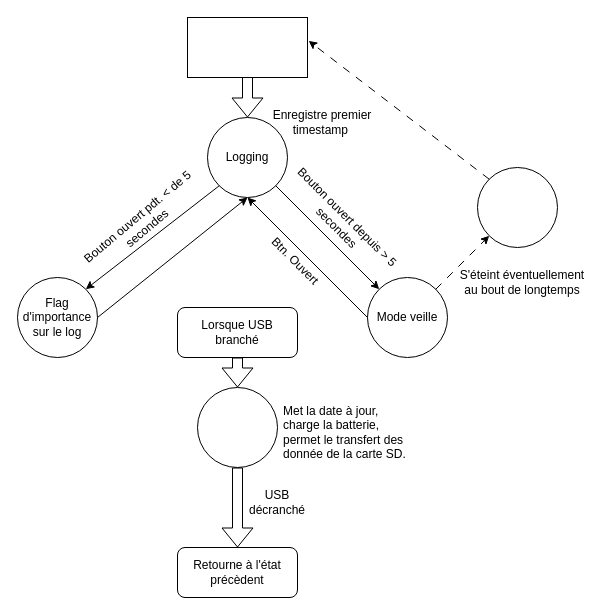
The diagram is 605 pixels wide and 615 high, and some of its shapes have lost their labels. The box of each missing label's shape, as (x1, y1, x2, y2) in pixels:
Mode charge: (196, 386, 278, 468)
Première mise en tension: (186, 16, 308, 78)
Système éteint: (476, 166, 558, 248)
